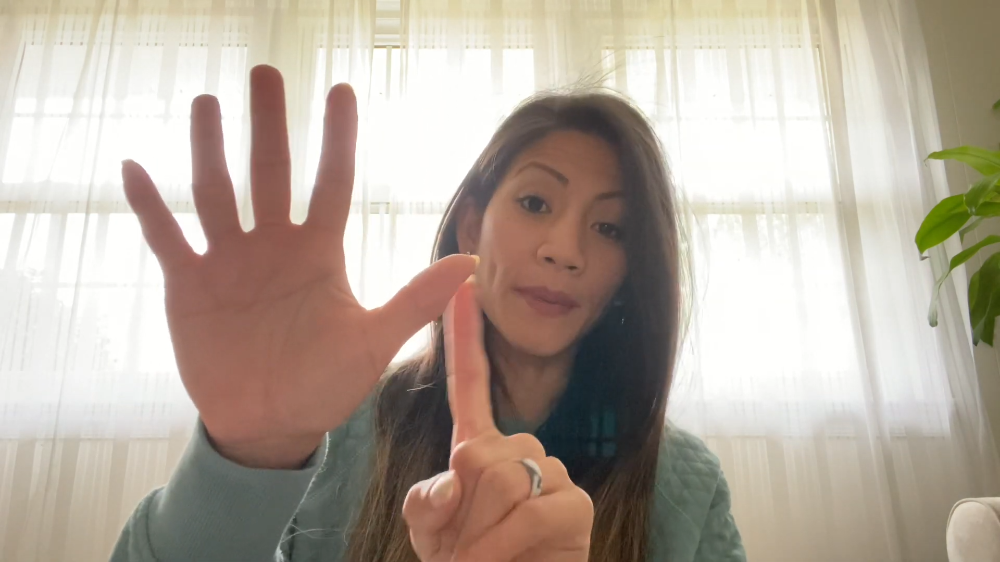hello: (119, 61, 477, 450)
